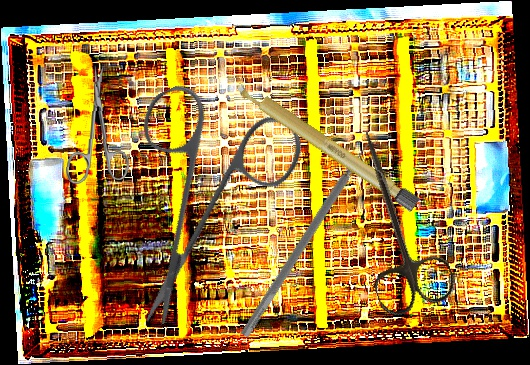Iris Scissors: (61, 48, 347, 330), (325, 119, 460, 321), (65, 63, 133, 187)
Scalpel Handle: (233, 77, 421, 213)
Spatula Surgical: (239, 132, 383, 344)
